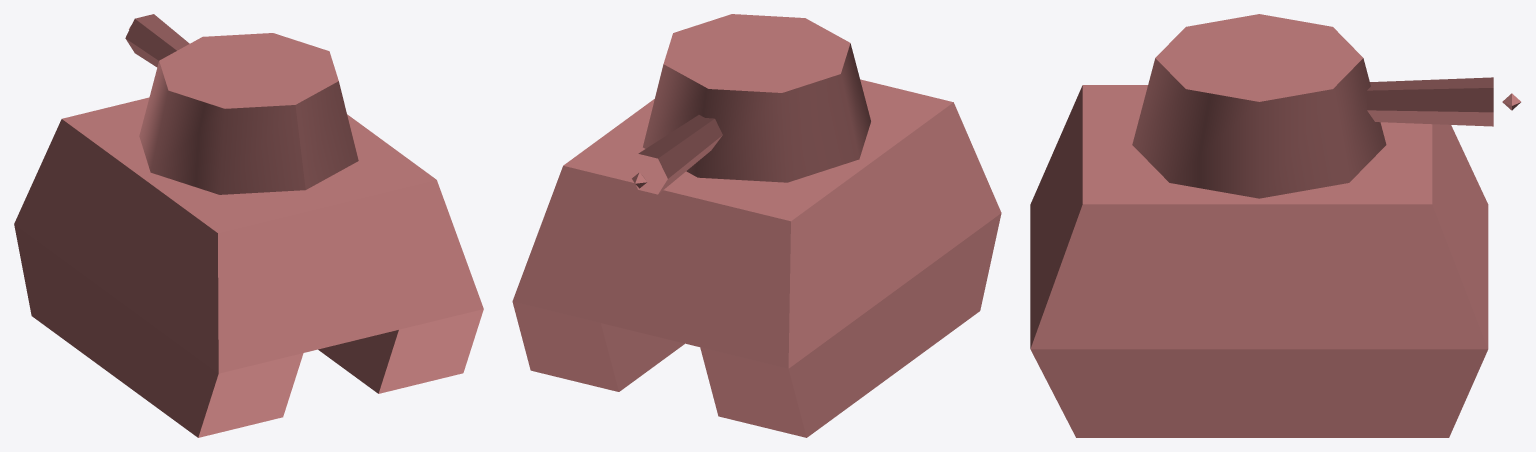
3 renders of one model, left to right at view 1: azimuth 30°, elevation 25°; view 2: azimuth 150°, elevation 25°; view 3: azimuth 270°, elevation 25°, orthographic. The views are drawn at different scales.
Parts seen in each view (by area): view 1: x3ds_Box01, x3ds_Cylinder01, x3ds_Box03, x3ds_Box02, x3ds_Cylinder02; view 2: x3ds_Box01, x3ds_Cylinder01, x3ds_Box03, x3ds_Box02, x3ds_Cylinder02; view 3: x3ds_Box01, x3ds_Box02, x3ds_Cylinder01, x3ds_Cylinder02.
Part boxes in pixels (x1=…): x3ds_Box01: x1=14, y1=97, x2=483, y2=373; x3ds_Cylinder01: x1=139, y1=33, x2=358, y2=194; x3ds_Box03: x1=14, y1=224, x2=303, y2=437; x3ds_Box02: x1=318, y1=309, x2=483, y2=393; x3ds_Cylinder02: x1=125, y1=14, x2=189, y2=67; x3ds_Box01: x1=512, y1=79, x2=1001, y2=368; x3ds_Cylinder01: x1=643, y1=14, x2=870, y2=182; x3ds_Box03: x1=700, y1=213, x2=1001, y2=437; x3ds_Box02: x1=512, y1=301, x2=684, y2=391; x3ds_Cylinder02: x1=628, y1=115, x2=722, y2=194; x3ds_Box01: x1=1030, y1=85, x2=1488, y2=349; x3ds_Box02: x1=1030, y1=349, x2=1487, y2=437; x3ds_Cylinder01: x1=1132, y1=14, x2=1386, y2=198; x3ds_Cylinder02: x1=1367, y1=77, x2=1493, y2=126.
Bounding box in the file's own units: 35.3 × 34.96 × 50.59.
